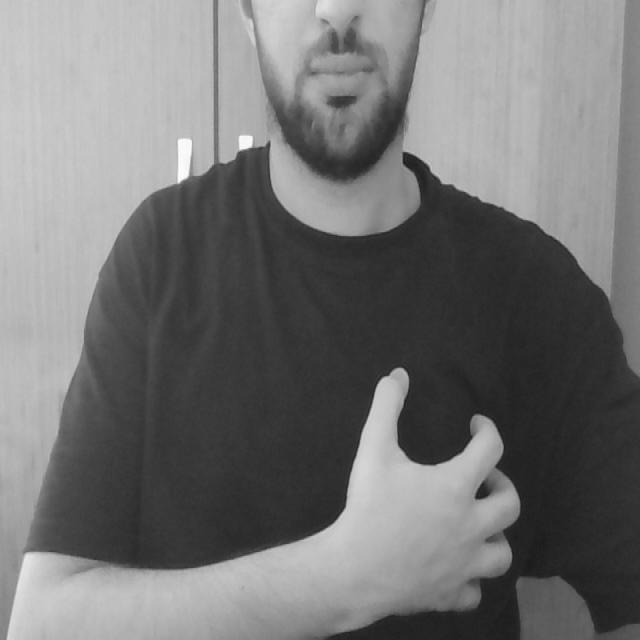Anne: (137, 320, 563, 620)
